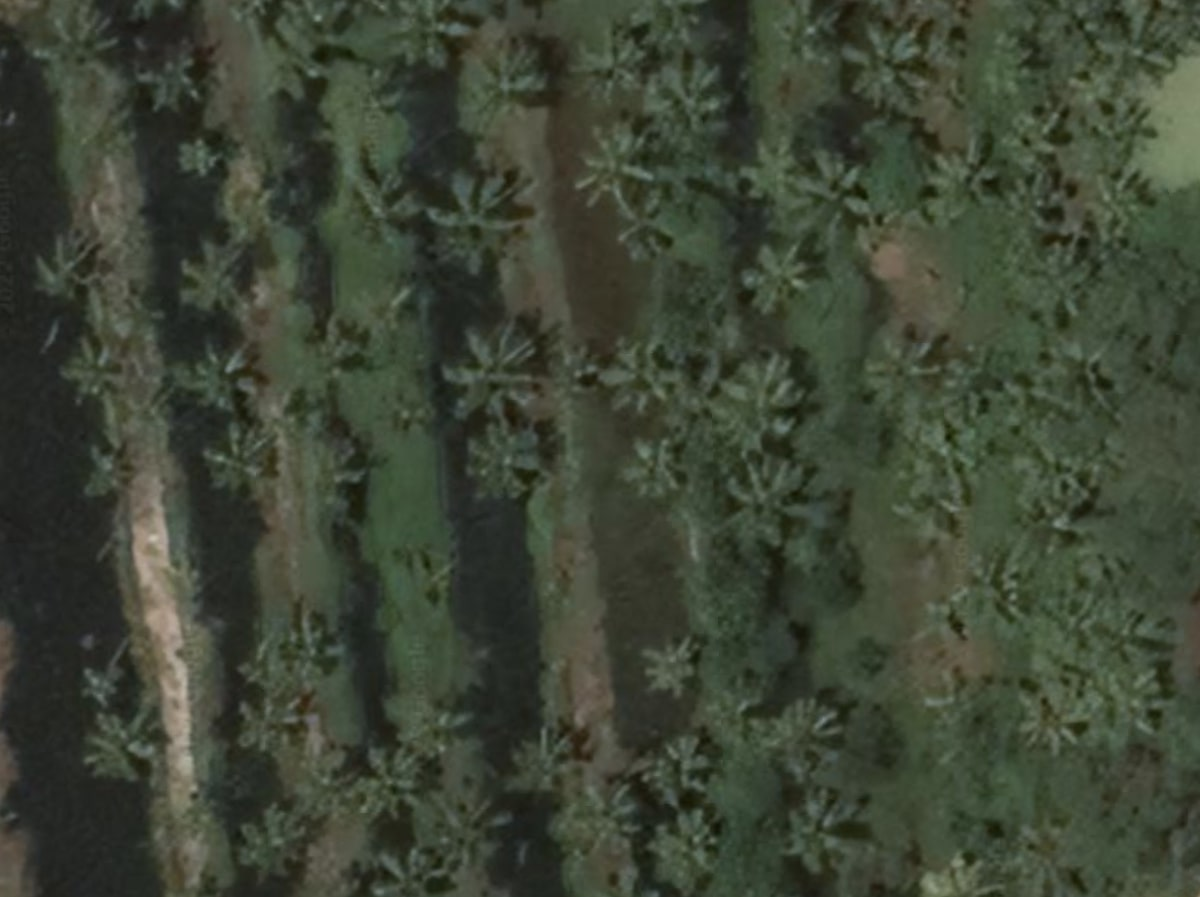coconut: (710, 348, 804, 448), (434, 166, 526, 266), (841, 15, 935, 102), (862, 318, 948, 411), (568, 115, 651, 209), (1006, 670, 1094, 755), (723, 461, 807, 550), (759, 692, 841, 778), (450, 331, 540, 408), (737, 237, 821, 313), (731, 137, 805, 218), (781, 796, 856, 874), (469, 420, 539, 503), (647, 733, 725, 807), (176, 343, 258, 413), (41, 14, 111, 87), (137, 43, 207, 112), (606, 342, 674, 413), (188, 237, 252, 307), (209, 431, 284, 489), (935, 134, 999, 201), (627, 428, 684, 501), (81, 727, 150, 786), (69, 341, 131, 405), (356, 753, 421, 813), (34, 237, 100, 294), (649, 638, 704, 702), (90, 450, 135, 496), (182, 137, 225, 180)
